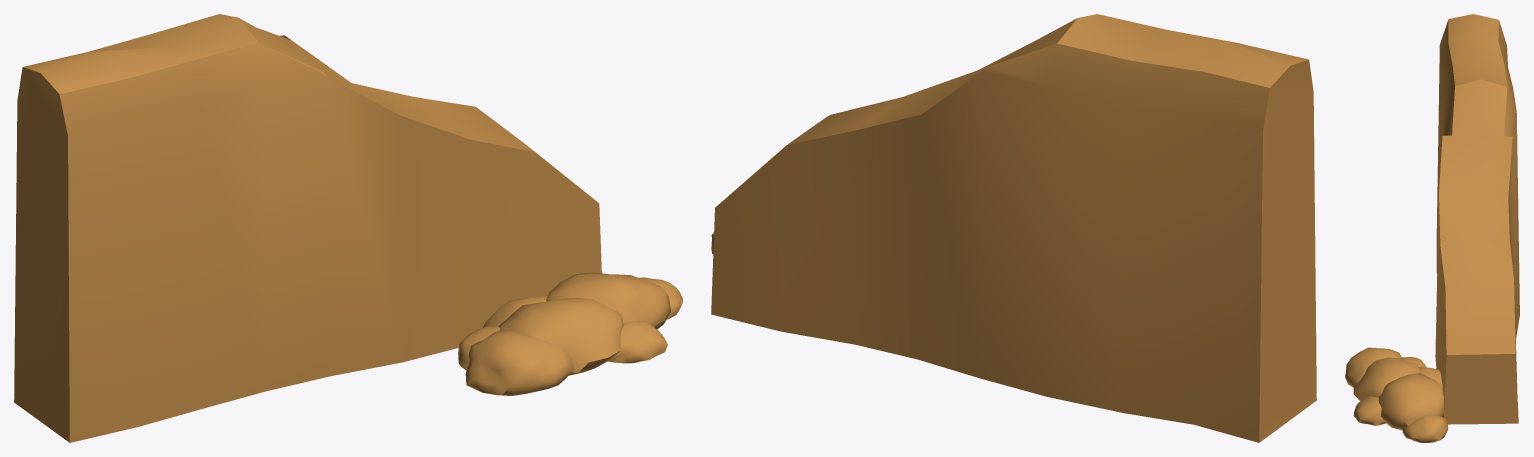
The model's file is deco_clay_wall_broken.fbx.
The picture shows the model from 3 angles, left to right: view 1: azimuth 30°, elevation 25°; view 2: azimuth 150°, elevation 25°; view 3: azimuth 270°, elevation 25°; orthographic projection. The views are drawn at different scales.
Visible parts, largest first — view 1: ClayWall_Broken_Wall, ClayWall_Broken_Rubble; view 2: ClayWall_Broken_Wall; view 3: ClayWall_Broken_Wall, ClayWall_Broken_Rubble.
Boxes of the visible parts, x1=… form: ClayWall_Broken_Wall: x1=14, y1=14, x2=601, y2=442; ClayWall_Broken_Rubble: x1=458, y1=272, x2=682, y2=395; ClayWall_Broken_Wall: x1=711, y1=14, x2=1316, y2=442; ClayWall_Broken_Wall: x1=1435, y1=14, x2=1519, y2=424; ClayWall_Broken_Rubble: x1=1345, y1=347, x2=1448, y2=442.
Size of the model in its own units: 270 by 153 by 102.
